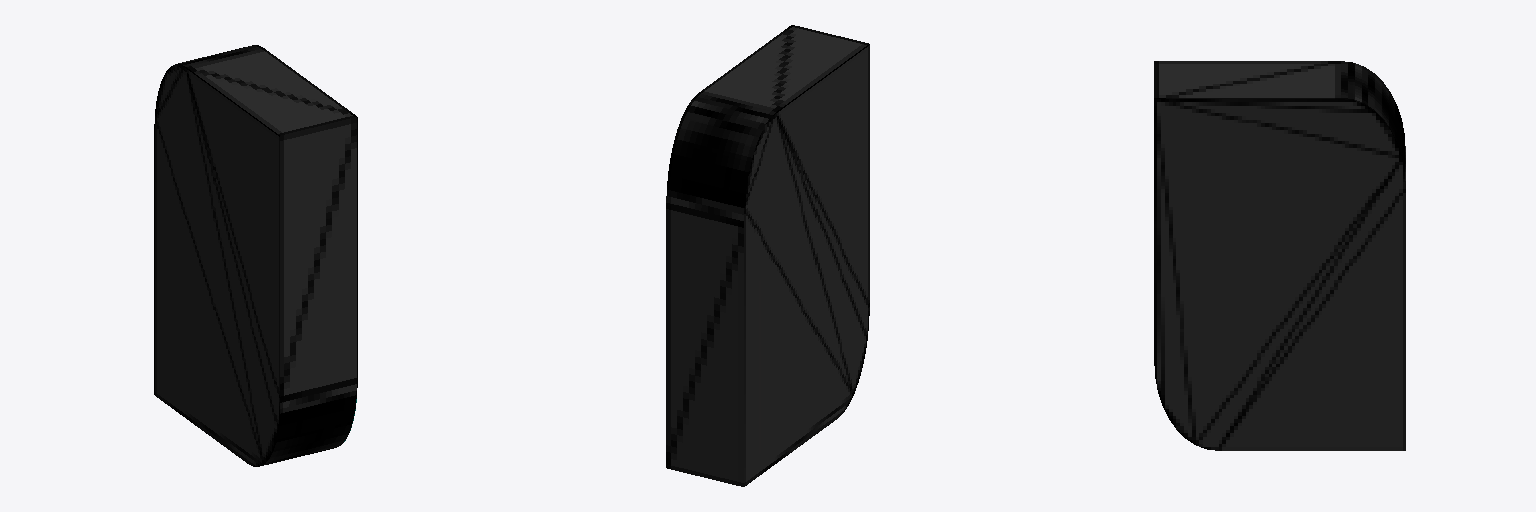
3 views of the same model, side by side, from view 1: azimuth 30°, elevation 25°; view 2: azimuth 150°, elevation 25°; view 3: azimuth 270°, elevation 25° (orthographic).
Visible parts, largest first — view 1: Cube; view 2: Cube; view 3: Cube.
Boxes of the visible parts, <box> form: Cube: <box>154,45,357,466</box>; Cube: <box>666,25,869,486</box>; Cube: <box>1154,61,1405,450</box>.
Size of the model in its own units: 0.8 by 3.46 by 2.24.
Materials: 1 (1 with a texture image).